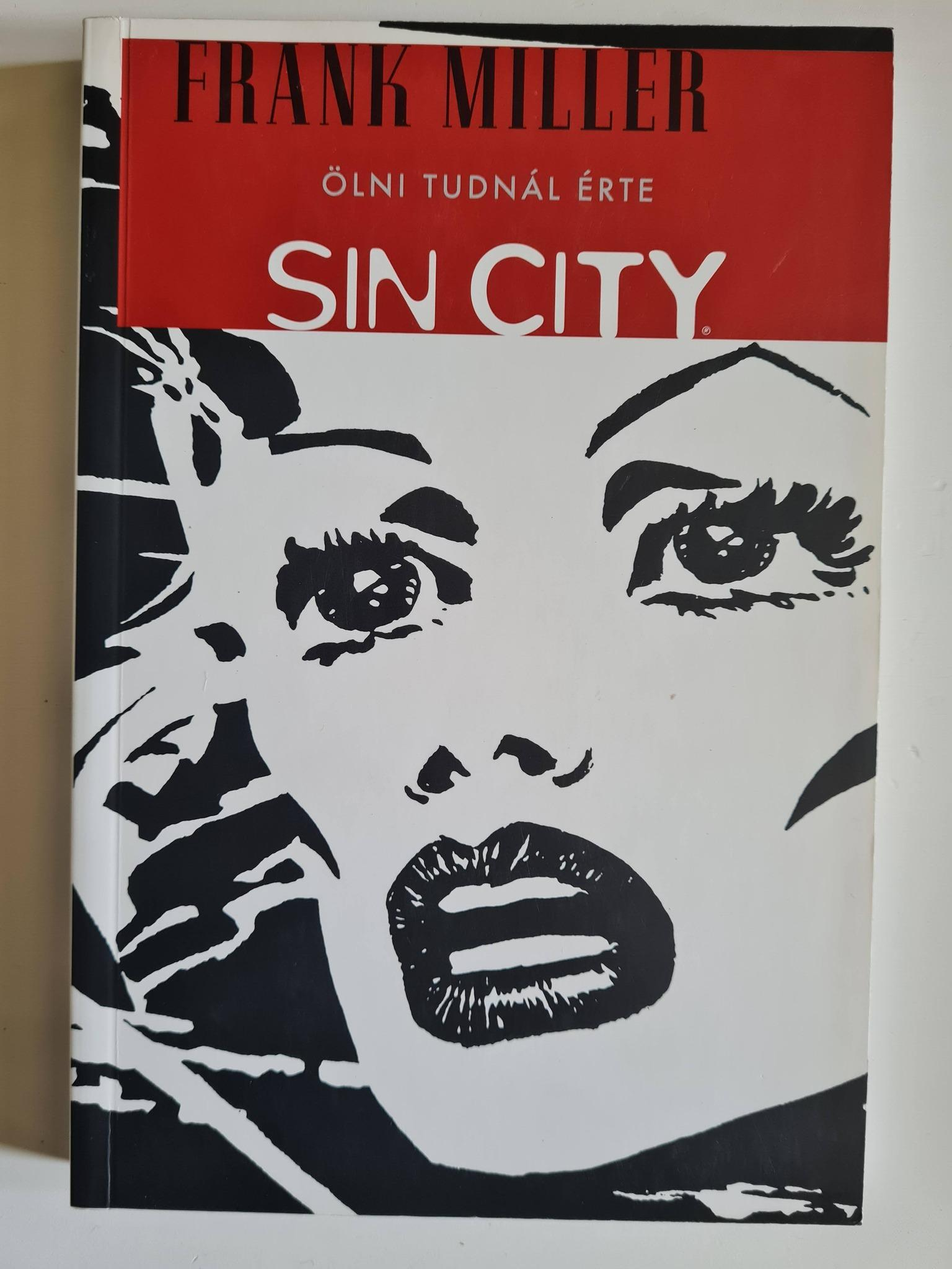comic: (64, 15, 892, 1224)
